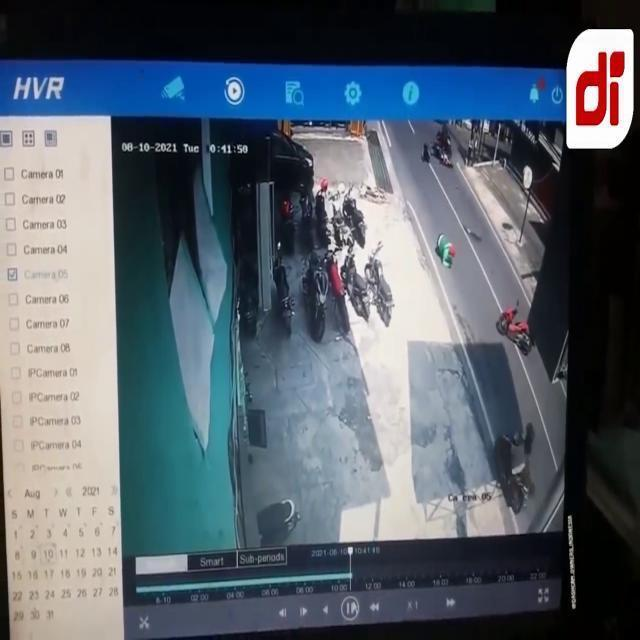accident: (492, 294, 544, 360)
non-accident: (269, 242, 396, 344), (274, 182, 366, 255)
